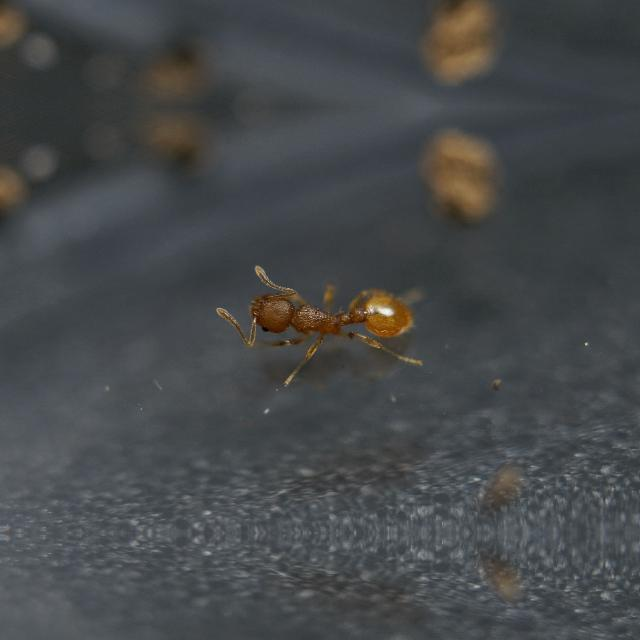Temnothorax: (215, 258, 435, 370)
